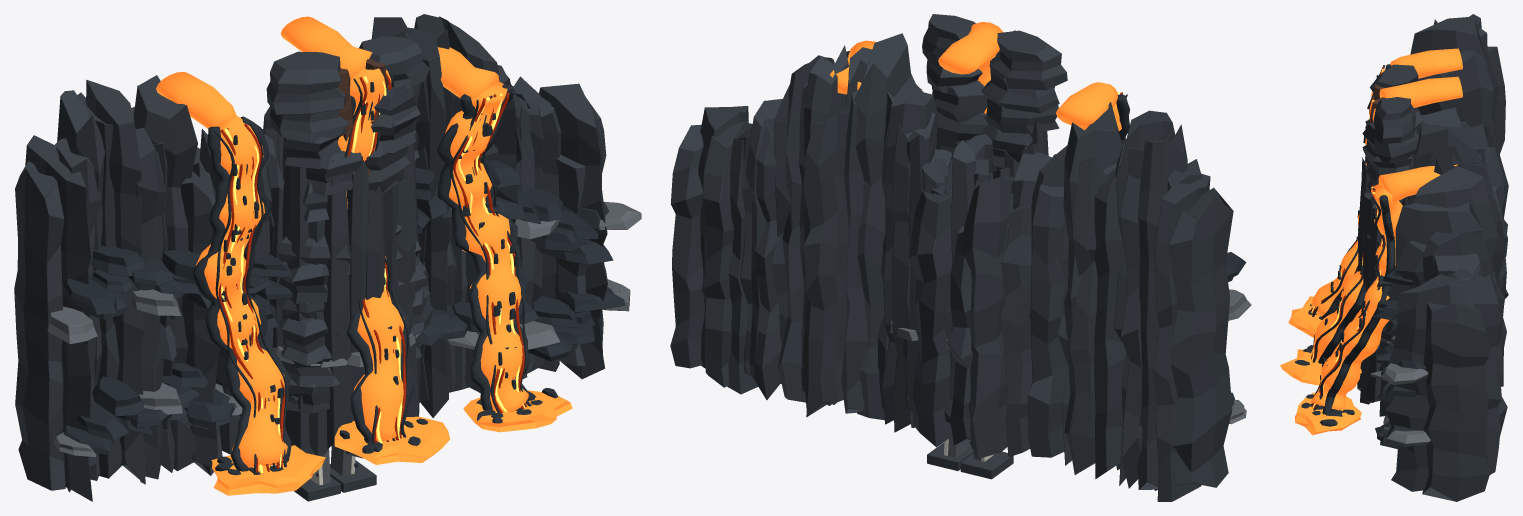
File: cindercoil-hero-kit-v2.glb
The picture shows the model from 3 angles, left to right: view 1: azimuth 30°, elevation 25°; view 2: azimuth 150°, elevation 25°; view 3: azimuth 270°, elevation 25°; orthographic projection. The views are drawn at different scales.
Visible parts, largest first — view 1: rupture_wall__Basalt, rupture_wall__Blackglass, hollow_tower__Basalt, rupture_left__Basalt, cascade_0__Lava, cascade_2__Lava, cascade_1__Lava, cascade_0__Blackglass, cascade_2__Blackglass, rupture_right__Basalt, rupture_wall__Ash, cascade_1__Blackglass (+7 smaller); view 2: rupture_wall__Basalt, rupture_left__Basalt, hollow_tower__Basalt, rupture_right__Basalt, cascade_1__Lava, cascade_0__Lava, broken_launch_pylon__Basalt, rupture_wall__Ash; view 3: rupture_wall__Basalt, cascade_2__Lava, rupture_right__Basalt, cascade_1__Lava, cascade_2__Blackglass, cascade_0__Lava, hollow_tower__Basalt, rupture_wall__Blackglass, rupture_wall__Ash, cascade_1__Blackglass, rupture_left__Basalt, cascade_0__Blackglass (+1 smaller).
Part boxes in pixels (x1,y1,x2,y2): rupture_wall__Basalt: (14,14,607,501); rupture_wall__Blackglass: (61,160,625,454); hollow_tower__Basalt: (262,106,420,458); rupture_left__Basalt: (266,51,362,413); cascade_0__Lava: (156,72,325,495); cascade_2__Lava: (437,47,572,432); cascade_1__Lava: (280,16,450,464); cascade_0__Blackglass: (193,116,291,475); cascade_2__Blackglass: (437,84,557,423); rupture_right__Basalt: (359,36,432,358); rupture_wall__Ash: (47,202,641,457); cascade_1__Blackglass: (336,70,427,453); rupture_wall__Basalt: (670,33,1233,501); rupture_left__Basalt: (980,30,1067,172); hollow_tower__Basalt: (903,119,1048,425); rupture_right__Basalt: (922,14,987,157); cascade_1__Lava: (938,22,1002,113); cascade_0__Lava: (1056,82,1121,130); broken_launch_pylon__Basalt: (927,442,1013,479); rupture_wall__Ash: (1228,289,1251,424); rupture_wall__Basalt: (1385,14,1508,501); cascade_2__Lava: (1295,164,1457,435); rupture_right__Basalt: (1362,97,1418,370); cascade_1__Lava: (1280,76,1462,385); cascade_2__Blackglass: (1301,183,1395,426); cascade_0__Lava: (1288,48,1462,337); hollow_tower__Basalt: (1357,148,1484,416); rupture_wall__Blackglass: (1373,267,1426,449); rupture_wall__Ash: (1370,335,1430,447); cascade_1__Blackglass: (1295,96,1374,365); rupture_left__Basalt: (1365,64,1424,165); cascade_0__Blackglass: (1308,64,1390,319).
Size of the model in its own units: 485 by 364 by 213.
